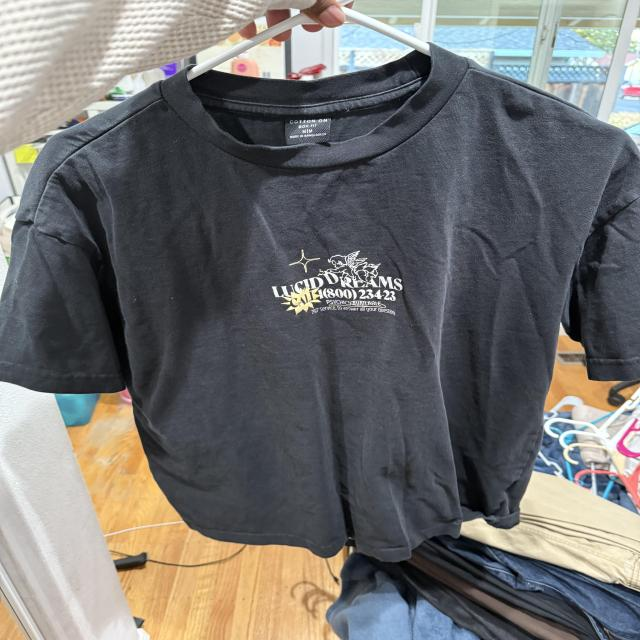back_tag: (279, 110, 341, 149)
